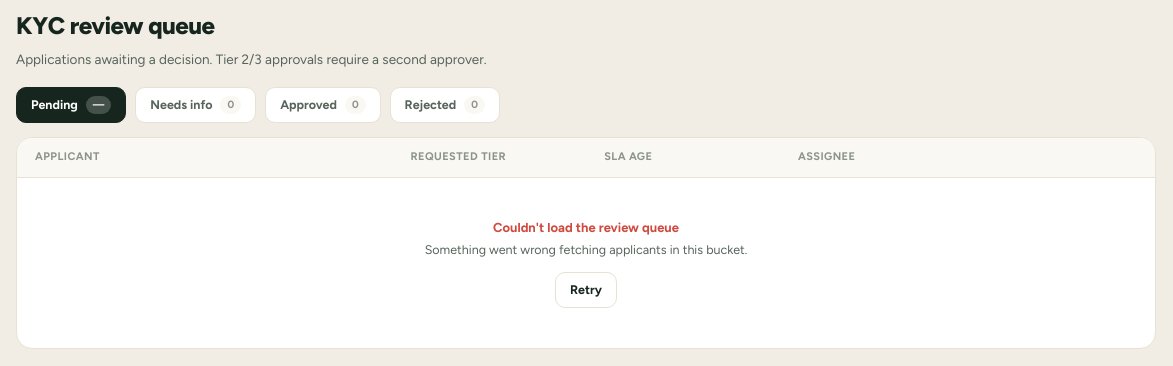
Scenario: KycReviewPage › surfaces a tokened error with a Retry affordance that refetches
The width and height of the screenshot is (1173, 366).
Check: the text "Couldn't load the review queue" is shown, box [493, 220, 679, 235]
Click the button "Retry" at [586, 290], box [555, 272, 617, 308]
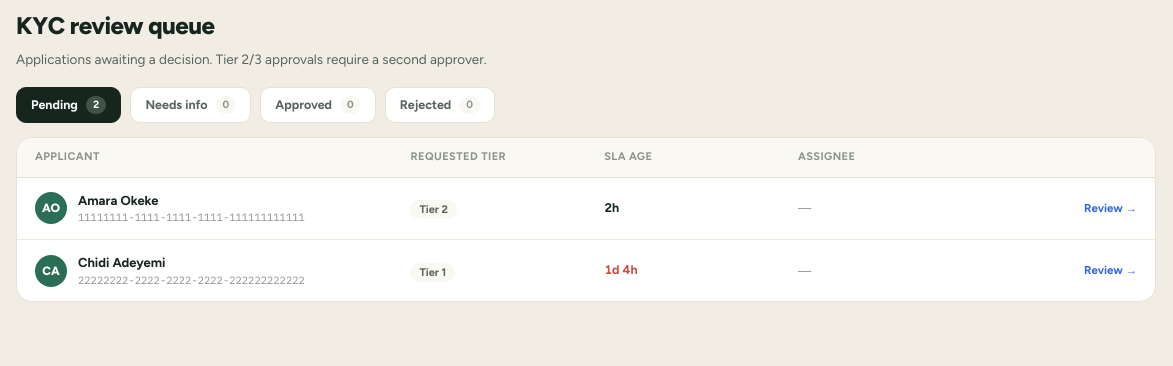
Check: the text "Amara Okeke" is shown, box [78, 193, 158, 208]
